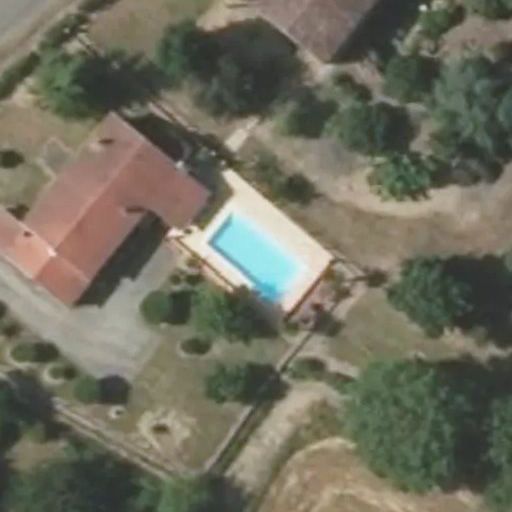pool: (205, 227, 306, 256)
